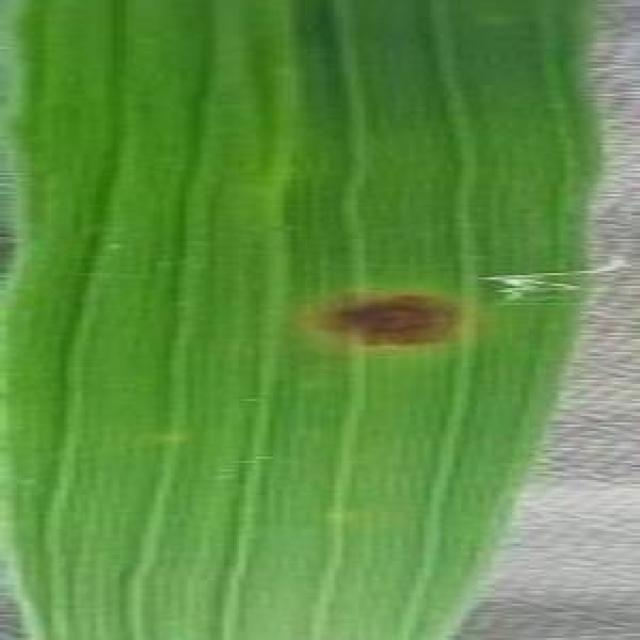Brown_Spot: (302, 284, 456, 355)
